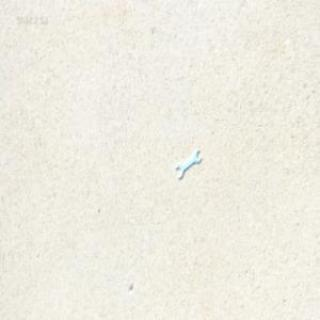Wrenchtrack_idkeyframe: (174, 147, 200, 177)
